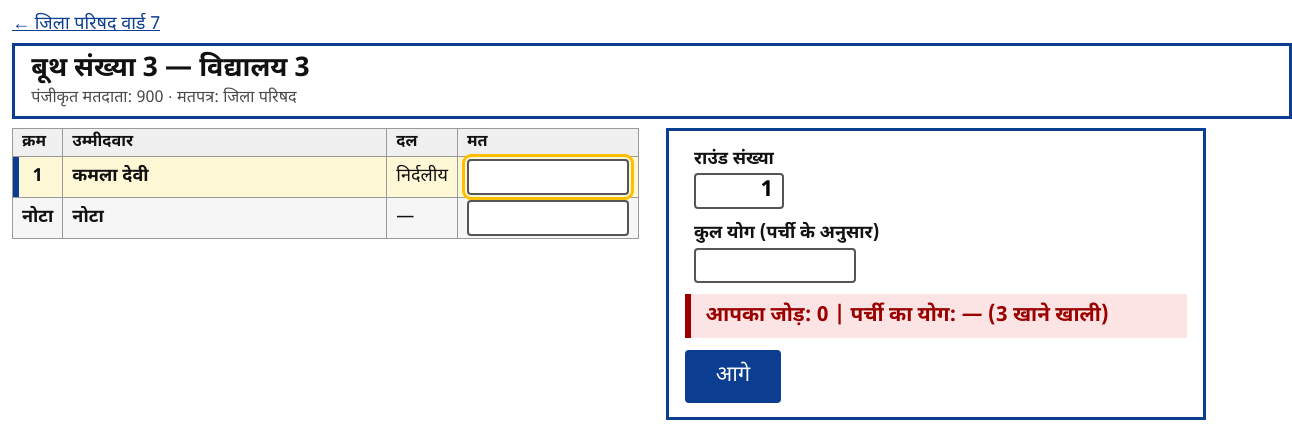
Test: ZP ward page and entry form for a PS_RO › the confirm screen shows no ward totals and the save sends ballotFor ZP
Check: the text "बूथ संख्या 3 — विद्यालय 3" is shown, box [31, 52, 310, 87]
Type "4" into the field with id "entry-c11". click: (548, 177)
box: [467, 159, 629, 195]
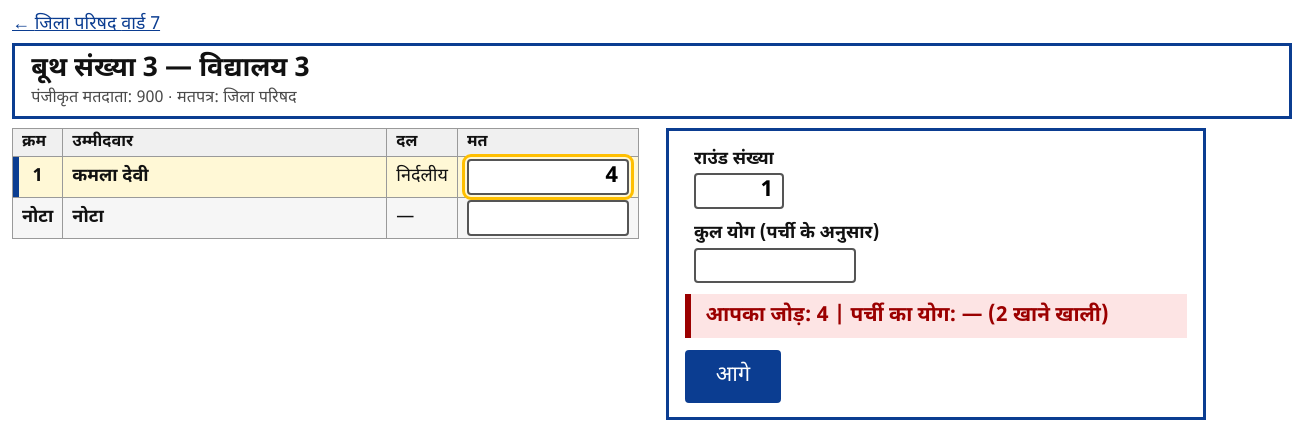
Type "1" into the field with id "entry-c13". click: (548, 218)
box: [467, 200, 629, 236]
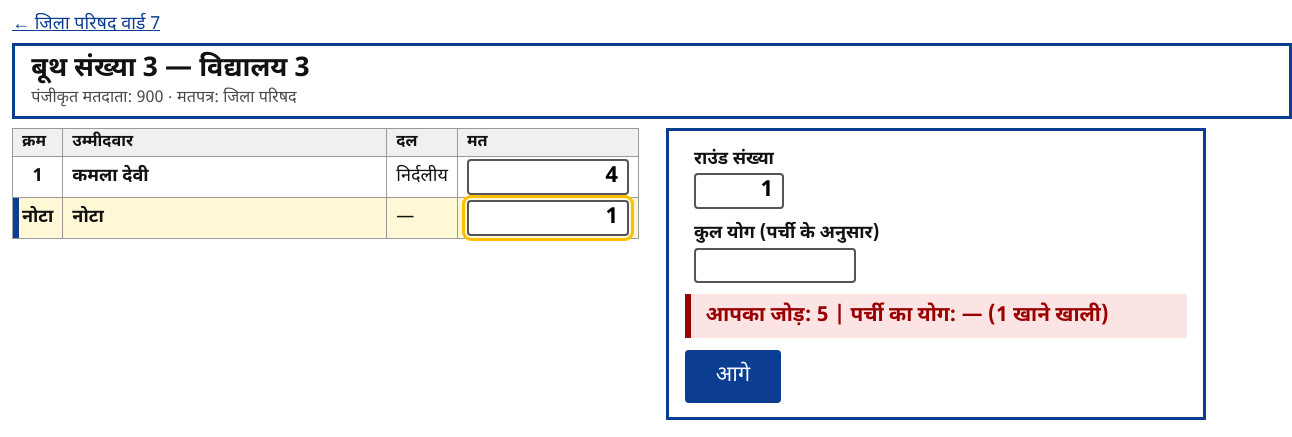
Type "5" into the field with id "entry-total". click: (775, 265)
box: [694, 248, 856, 283]
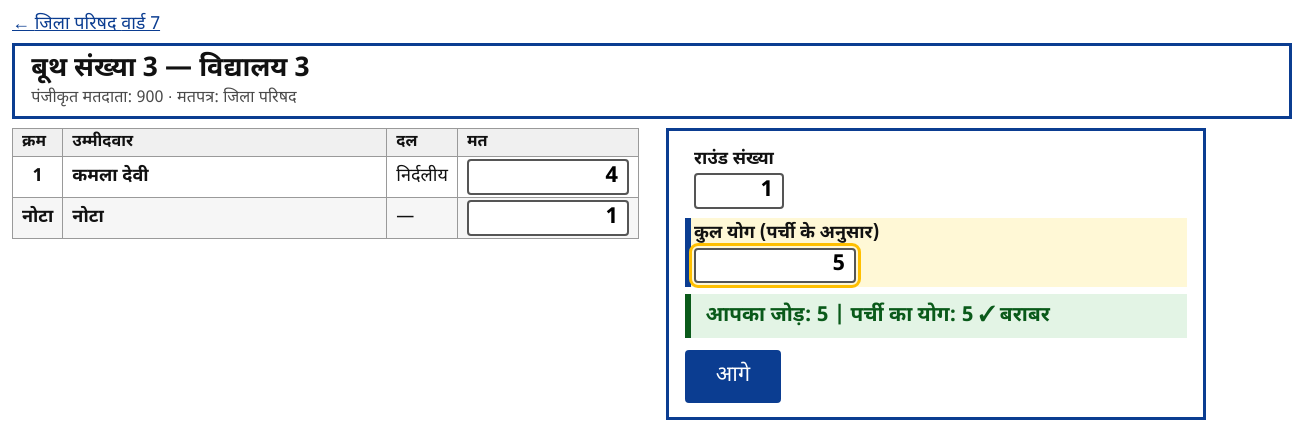
Click the button "आगे". click: (733, 377)
box: [685, 350, 781, 404]
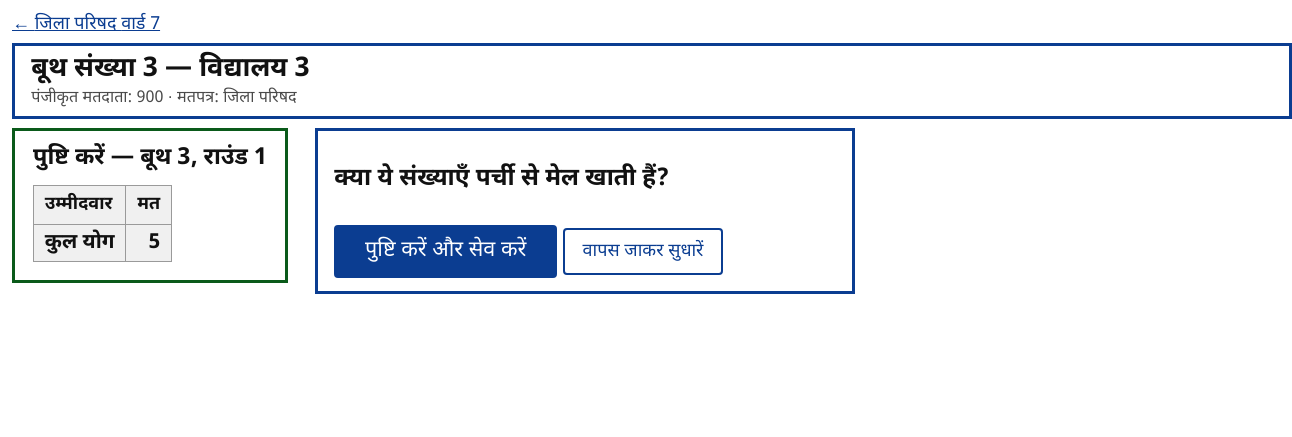
Check: the heading "पुष्टि करें — बूथ 3, राउंड 1" is shown, box [33, 142, 267, 176]
